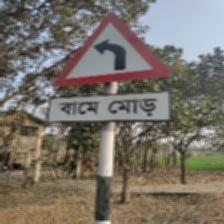Left-Turn: (48, 11, 174, 128)
